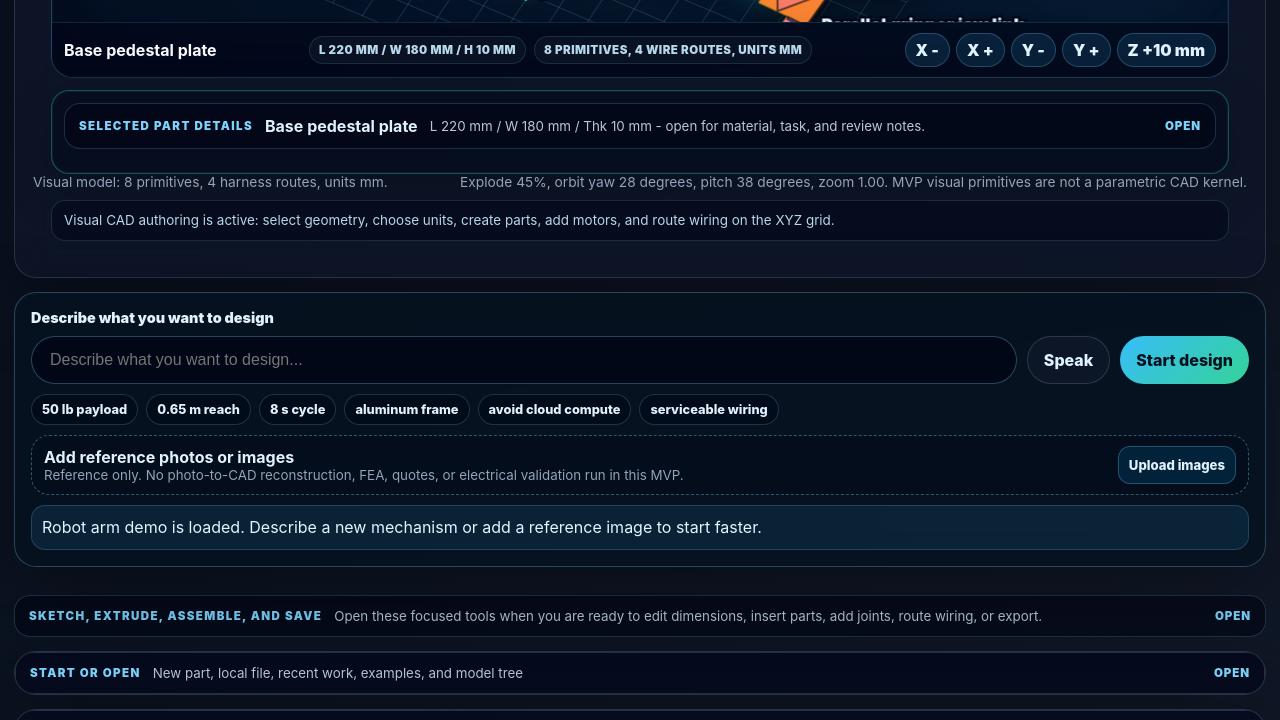
Test: MechaFlow input-first cockpit › captures typed design intent into structured chips and starts a prompt concept honestly
(page scrolled)
In the field with placeholder "Describe what you want to design...": (524,360) [31,336,1017,384], type "Design a compact gripper for 12 kg payload, 0.4 m reach, 5 s cycle, aluminum body, avoid cloud compute, keep wiring serviceable."
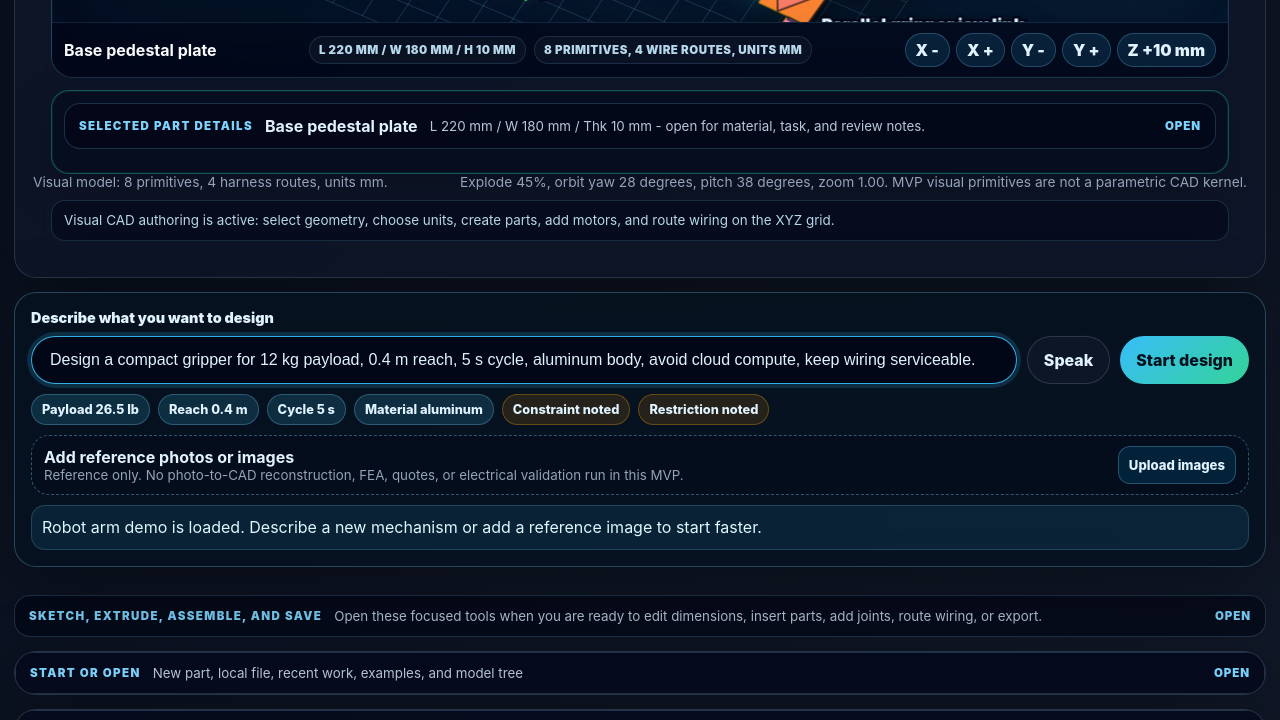
Now the element named "Extracted design intent chips" shows "Payload 26.5 lb", box [42,402,139,417]
Now the element named "Extracted design intent chips" shows "Reach 0.4 m", box [169,402,248,417]
Now the element named "Extracted design intent chips" shows "Cycle 5 s", box [278,402,335,417]
Click the button "Start design": (1185,360) [1120,336,1249,384]
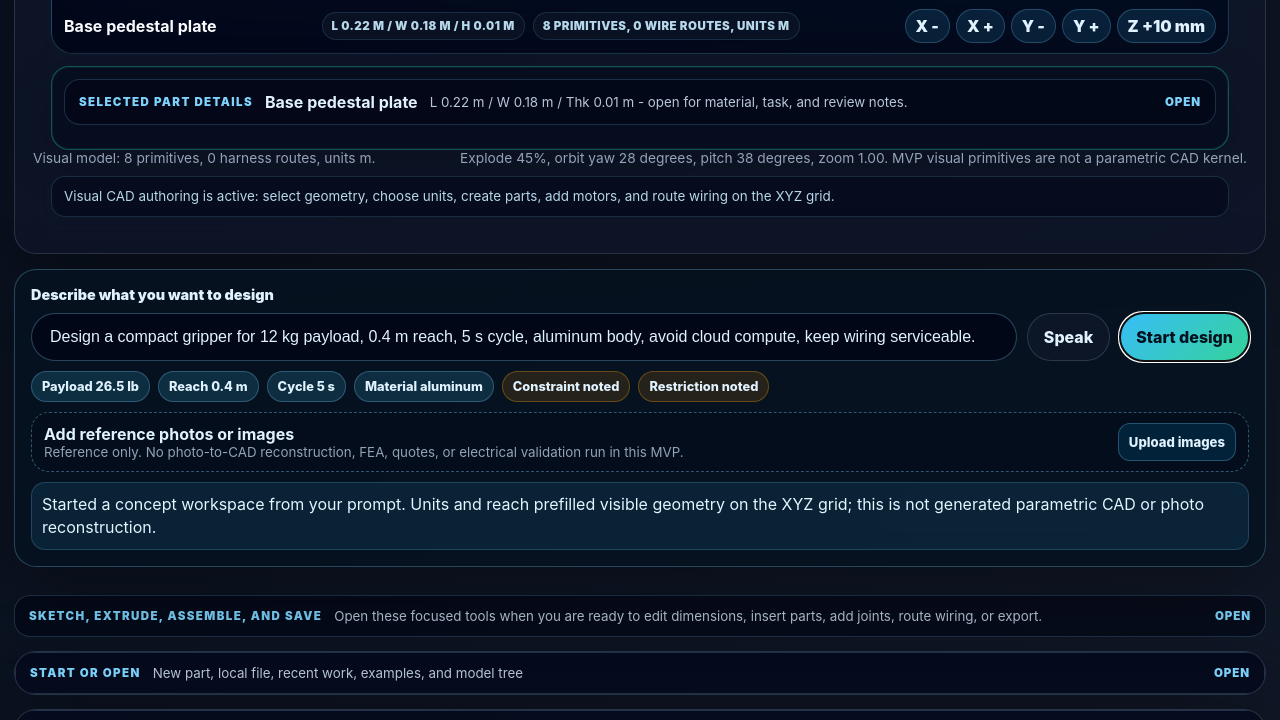
Now the text "not generated parametric CAD or photo reconstruction" is shown, box [42,494,1204,537]
